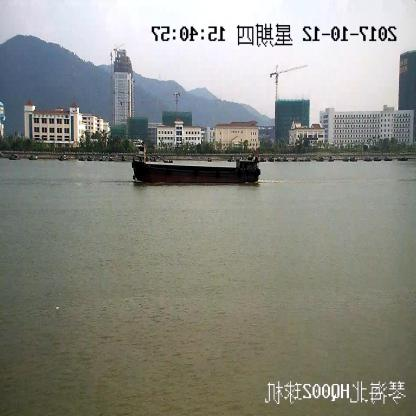Bulk Carrier: (132, 148, 262, 184)
